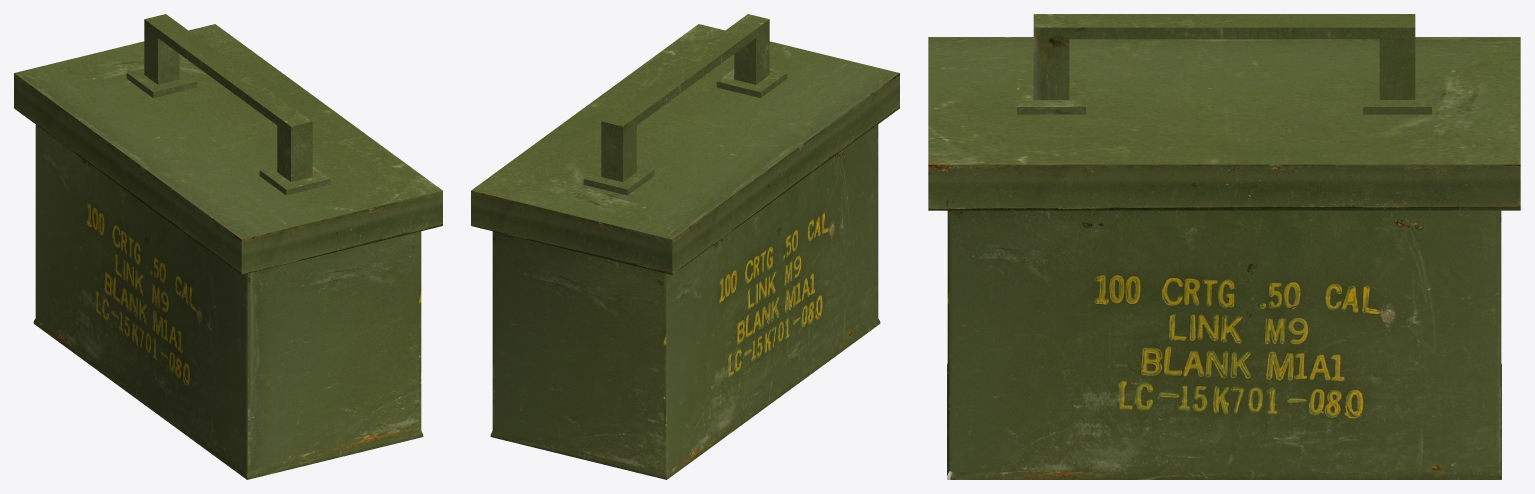
File: ammo box MG.fbx
3 views of the same model, side by side, from view 1: azimuth 30°, elevation 25°; view 2: azimuth 150°, elevation 25°; view 3: azimuth 270°, elevation 25° (orthographic). The views are drawn at different scales.
Visible parts, largest first — view 1: mg ammo box; view 2: mg ammo box; view 3: mg ammo box.
Boxes of the visible parts, x1,y1,x2,y2 form: mg ammo box: [14, 14, 442, 479]; mg ammo box: [471, 14, 899, 479]; mg ammo box: [928, 14, 1520, 479].
Size of the model in its own units: 27.08 by 39.88 by 53.06.
